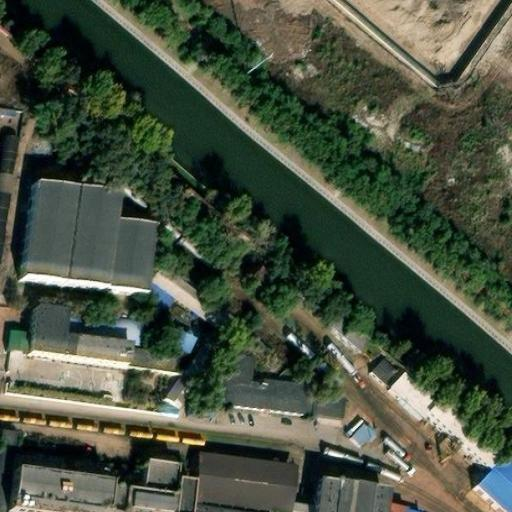building: (19, 188, 154, 299), (209, 348, 341, 422), (24, 305, 126, 371), (189, 457, 294, 512), (425, 407, 499, 480), (7, 476, 120, 512), (1, 334, 62, 387), (384, 374, 437, 427), (311, 483, 386, 512), (475, 460, 512, 512), (122, 347, 174, 383), (180, 334, 217, 379), (133, 462, 173, 502), (368, 351, 404, 386), (162, 371, 196, 407), (150, 420, 204, 441), (341, 320, 375, 352), (166, 323, 198, 356), (345, 413, 377, 445), (16, 459, 59, 482), (0, 130, 20, 178), (117, 495, 169, 512), (72, 466, 106, 489), (167, 484, 191, 512), (385, 498, 419, 512), (126, 417, 153, 433), (115, 208, 140, 225), (187, 505, 241, 512), (0, 103, 21, 120), (120, 480, 135, 497), (289, 506, 310, 512)
